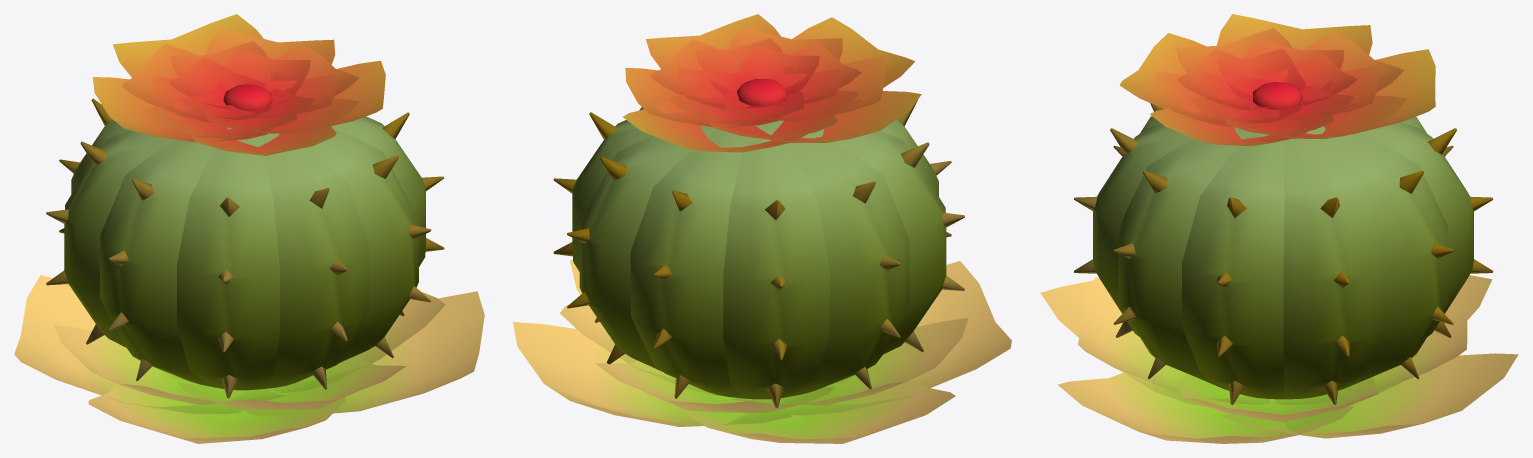
The model's file is CactoGlobo.glb.
3 views of the same model, side by side, from view 1: azimuth 30°, elevation 25°; view 2: azimuth 150°, elevation 25°; view 3: azimuth 270°, elevation 25° (orthographic). The views are drawn at different scales.
Parts seen in each view (by area): view 1: Plane.005; view 2: Plane.005; view 3: Plane.005.
Boxes of the visible parts, bbox=[...] form: Plane.005: bbox=[14, 14, 484, 443]; Plane.005: bbox=[513, 14, 1011, 443]; Plane.005: bbox=[1040, 14, 1518, 443].
Size of the model in its own units: 2.43 by 1.76 by 2.36.
Materials: 1 (1 with a texture image).
